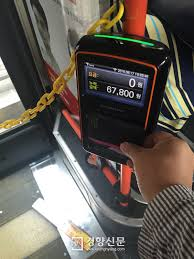terminal: (77, 38, 162, 126)
